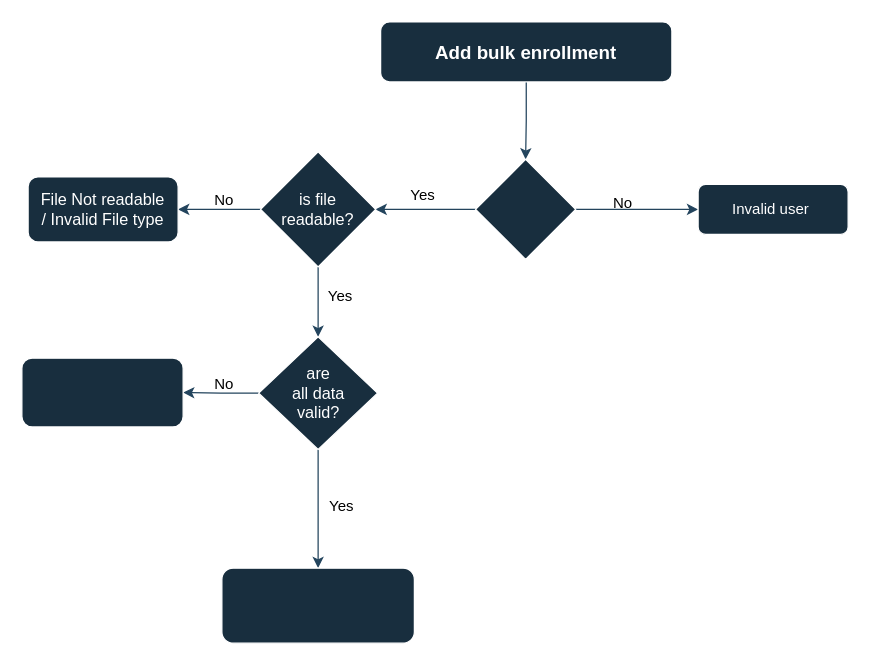
This 870x665 diagram has some shape labels left out. Here are the shapes that lost their labels. From the top down, the centre of each, then its label:
point (525, 208): is admin?
point (102, 392): give appropriate response regarding issue
point (317, 605): Enrollments Added
